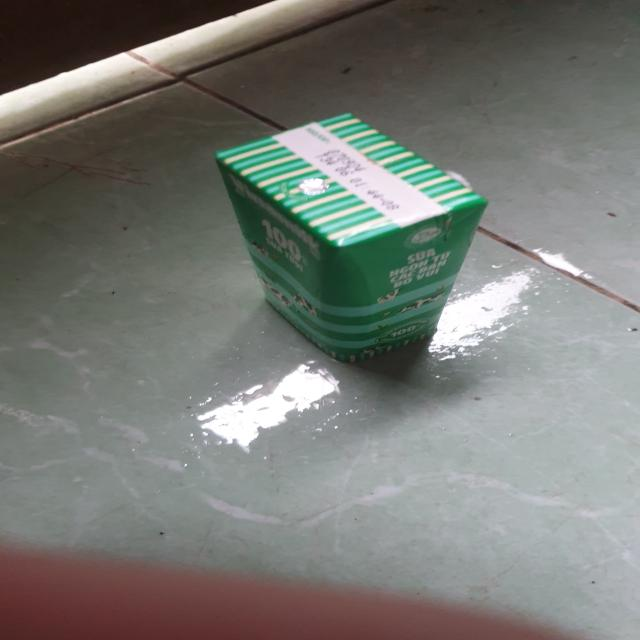Vina: (212, 109, 493, 368)
